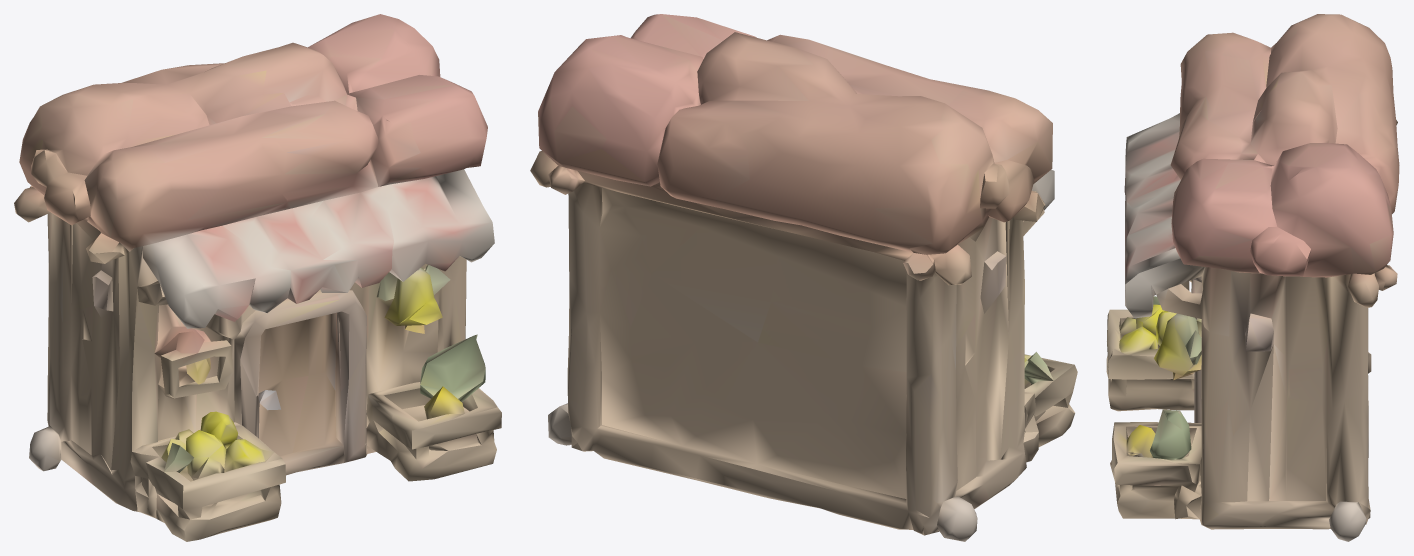
Rendered from shop_ext_1.glb.
3 views of the same model, side by side, from view 1: azimuth 30°, elevation 25°; view 2: azimuth 150°, elevation 25°; view 3: azimuth 270°, elevation 25° (orthographic). The views are drawn at different scales.
Parts seen in each view (by area): view 1: tripo_node_b8ea0e5f-e0e7-4f1f-b20f-dad5094b8340; view 2: tripo_node_b8ea0e5f-e0e7-4f1f-b20f-dad5094b8340; view 3: tripo_node_b8ea0e5f-e0e7-4f1f-b20f-dad5094b8340.
Part boxes in pixels (bbox=[...]): tripo_node_b8ea0e5f-e0e7-4f1f-b20f-dad5094b8340: bbox=[14, 14, 501, 541]; tripo_node_b8ea0e5f-e0e7-4f1f-b20f-dad5094b8340: bbox=[530, 14, 1077, 541]; tripo_node_b8ea0e5f-e0e7-4f1f-b20f-dad5094b8340: bbox=[1106, 14, 1399, 541].
Size of the model in its own units: 4.5 by 3.99 by 2.84.
